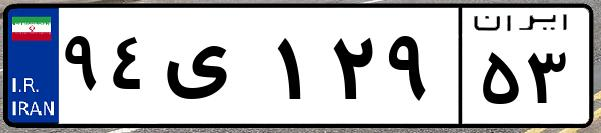1: (270, 28, 330, 110)
2: (330, 28, 385, 110)
3: (525, 38, 570, 115)
4: (110, 28, 158, 98)
5: (475, 38, 525, 113)
9: (385, 28, 445, 110), (57, 26, 110, 100)
ی: (158, 20, 270, 120)
